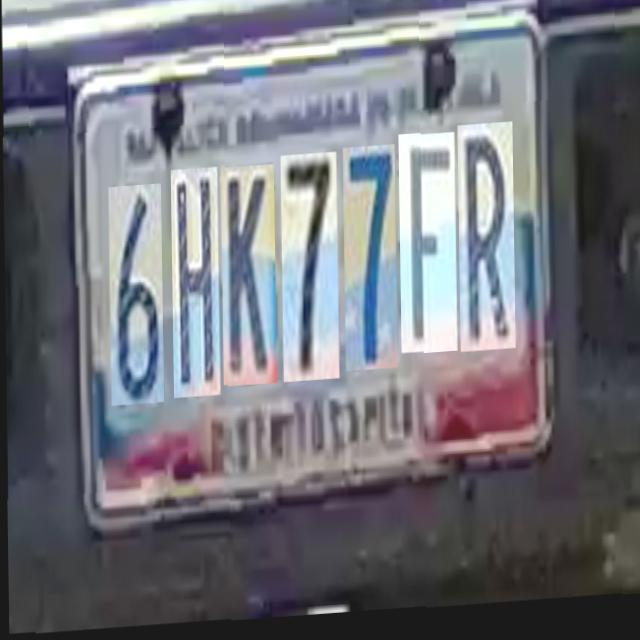6: (108, 186, 162, 408)
7: (280, 155, 338, 385), (342, 149, 397, 375)
F: (398, 136, 456, 358)
H: (170, 170, 219, 401)
K: (220, 167, 276, 389)
R: (456, 126, 514, 356)
